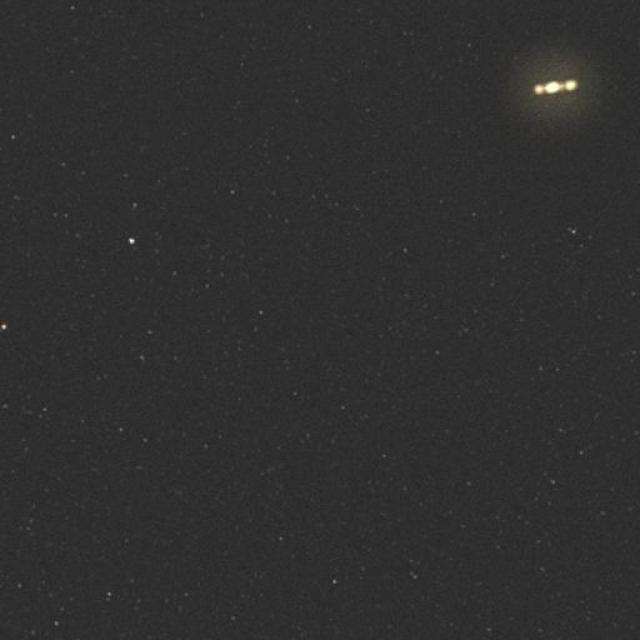earth_observation_sat_1: (491, 16, 615, 146)
